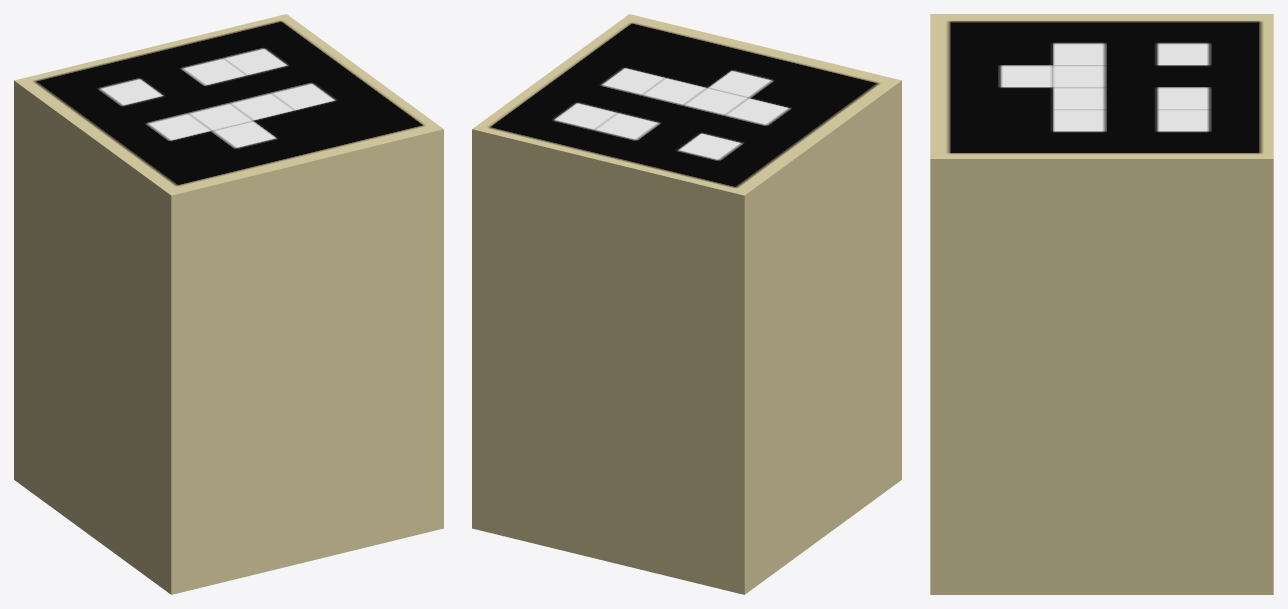
3 renders of one model, left to right at view 1: azimuth 30°, elevation 25°; view 2: azimuth 150°, elevation 25°; view 3: azimuth 270°, elevation 25°, orthographic. The views are drawn at different scales.
Parts seen in each view (by area): view 1: Cube; view 2: Cube; view 3: Cube.
Boxes of the visible parts, left/top/right/bottom form: Cube: left=14, top=14, right=443, bottom=594; Cube: left=472, top=14, right=901, bottom=594; Cube: left=930, top=14, right=1273, bottom=594.
Size of the model in its own units: 0.05 by 0.05 by 0.07.
